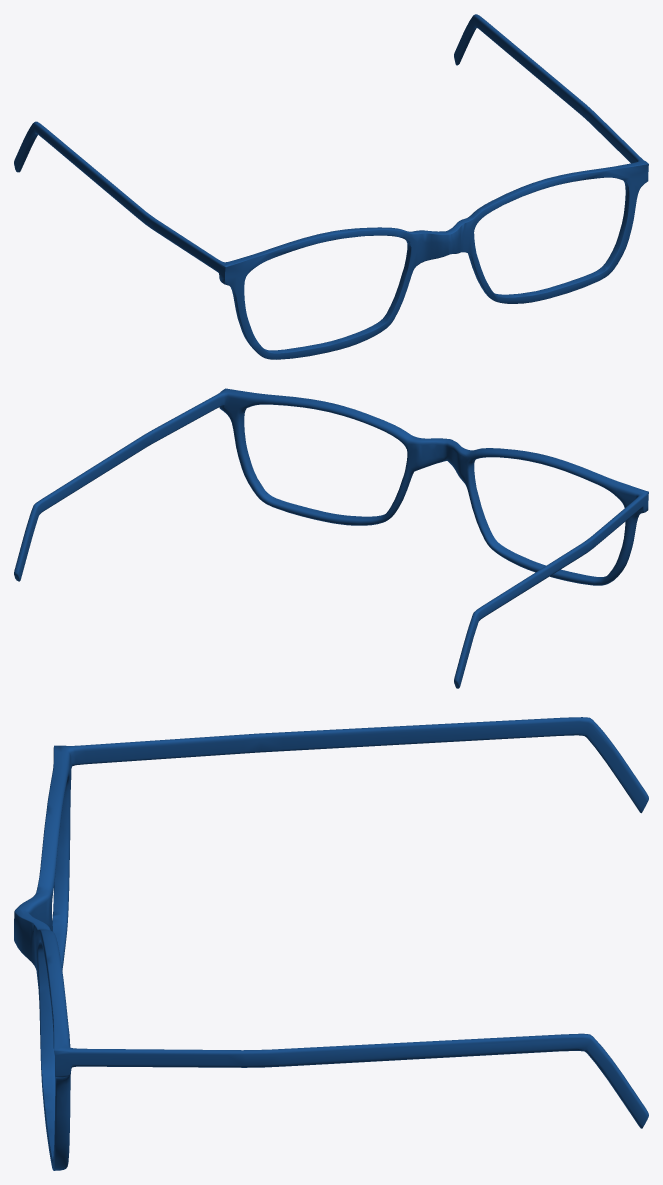
Rendered from eyewear-glasses-blue-e9998a9c.glb.
3 views of the same model, one above another, from view 1: azimuth 30°, elevation 25°; view 2: azimuth 150°, elevation 25°; view 3: azimuth 270°, elevation 25° (orthographic). The views are drawn at different scales.
Parts seen in each view (by area): view 1: glasses_blue.001; view 2: glasses_blue.001; view 3: glasses_blue.001.
Boxes of the visible parts, x1,y1,x2,y2 form: glasses_blue.001: (14,14,648,359); glasses_blue.001: (14,388,648,688); glasses_blue.001: (14,717,648,1170).
Size of the model in its own units: 1.66 by 0.4414 by 1.4.
